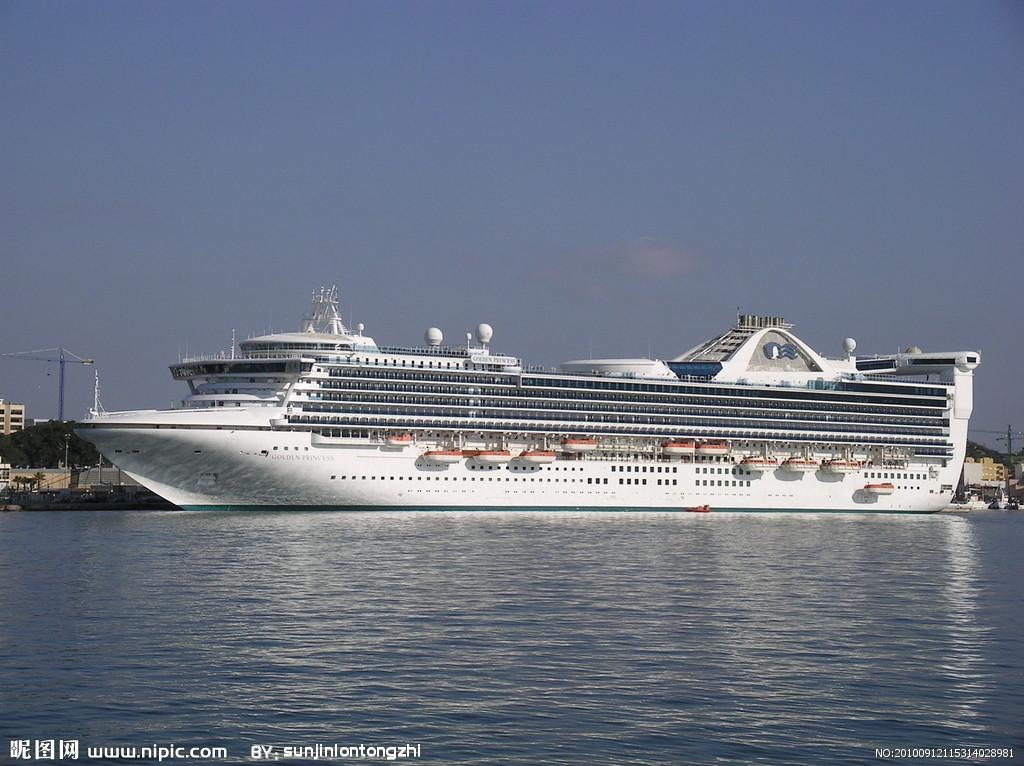youlun: (71, 308, 982, 507)
